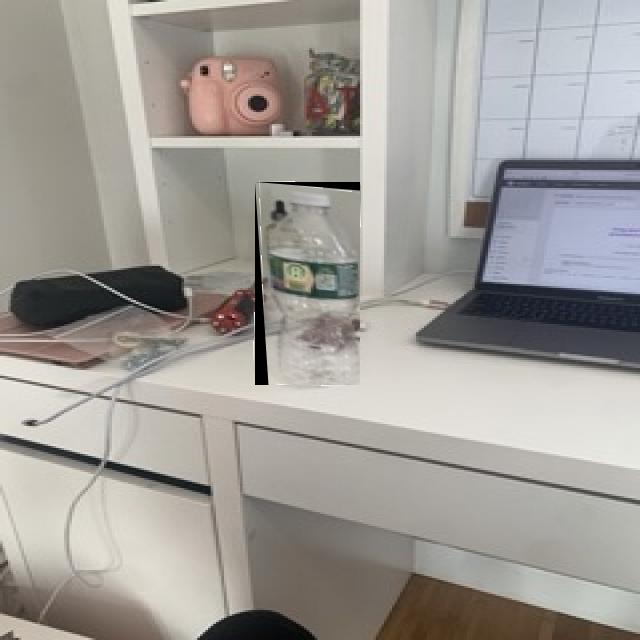water_bottle: (255, 182, 360, 385)
